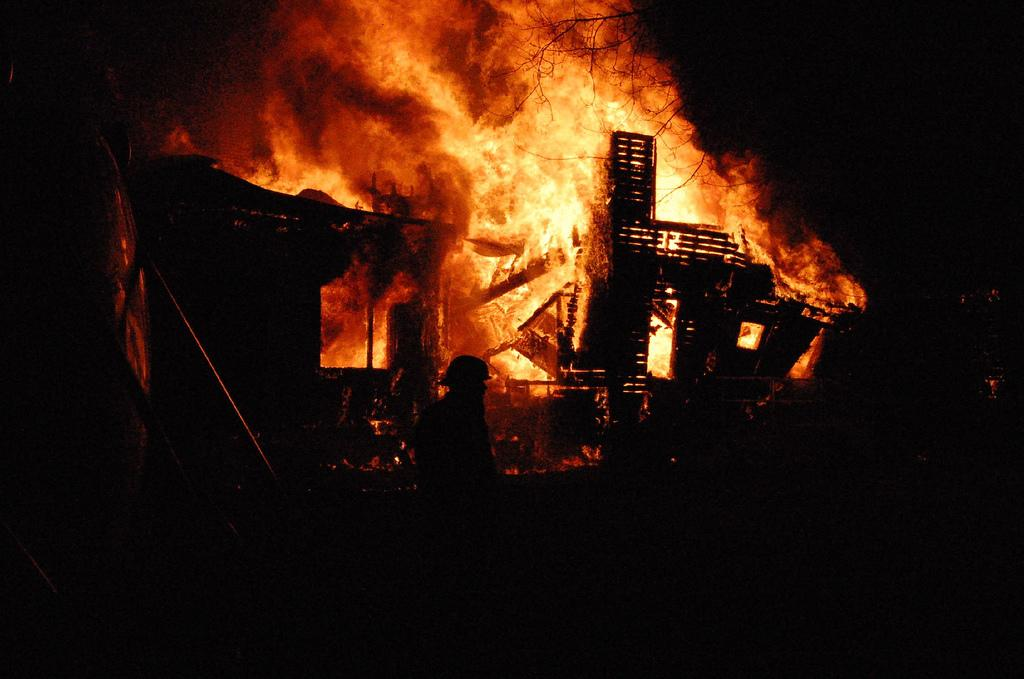fire: (490, 128, 597, 233), (517, 55, 628, 113), (662, 157, 705, 215)
